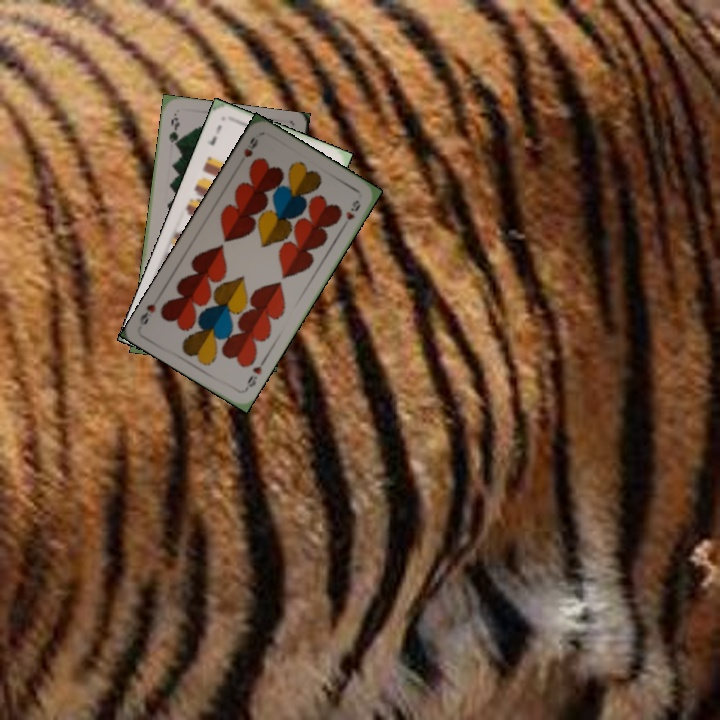E7: (203, 121, 224, 148)
G9: (165, 111, 182, 150)
H9: (241, 362, 265, 393), (240, 133, 261, 160)
